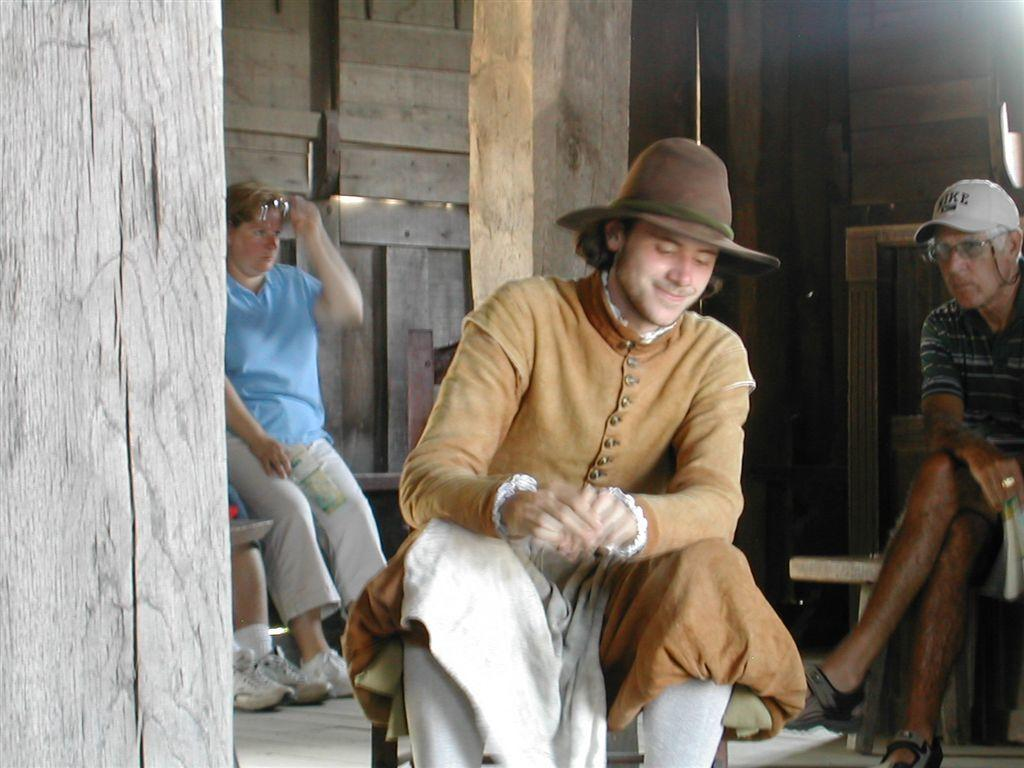Hat: (556, 135, 782, 279), (914, 179, 1018, 246)
